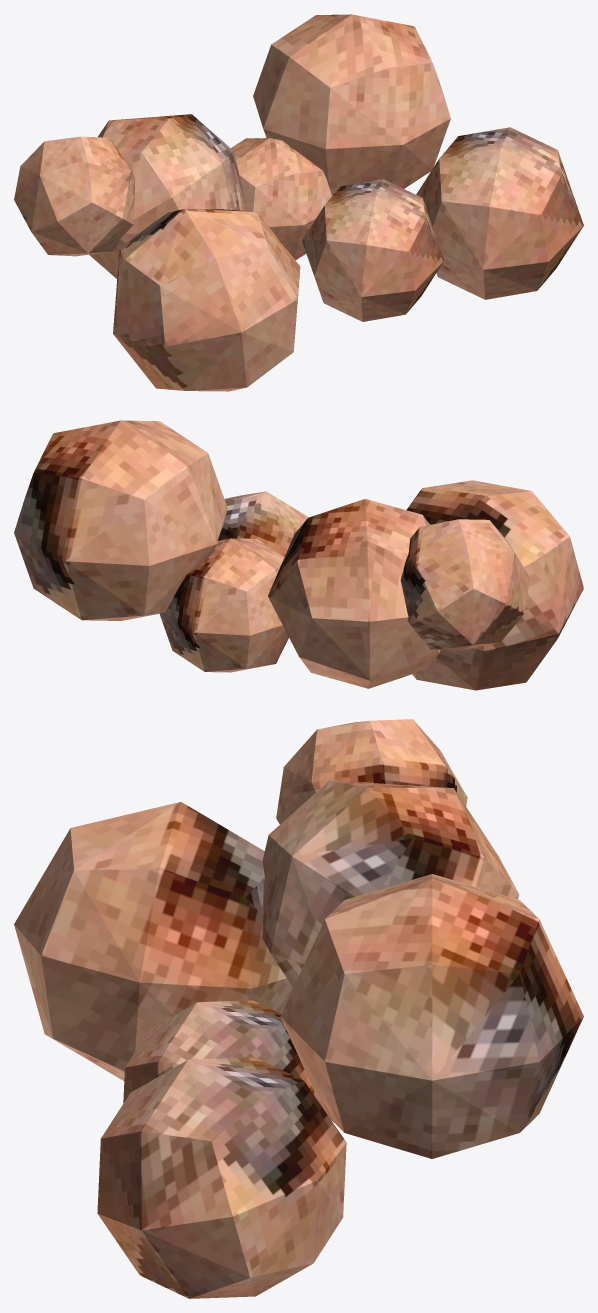
The model's file is Fruta7.fbx.
3 renders of one model, top to bottom at view 1: azimuth 30°, elevation 25°; view 2: azimuth 150°, elevation 25°; view 3: azimuth 270°, elevation 25°, orthographic. The views are drawn at different scales.
Parts seen in each view (by area): view 1: Cube.001; view 2: Cube.001; view 3: Cube.001.
Part boxes in pixels (x1,y1,x2,y2): Cube.001: [14, 14, 583, 391]; Cube.001: [14, 420, 583, 690]; Cube.001: [14, 719, 583, 1298].
Bounding box in the file's own units: 55.71 × 26.99 × 37.31.
Materials: 1 (1 with a texture image).
